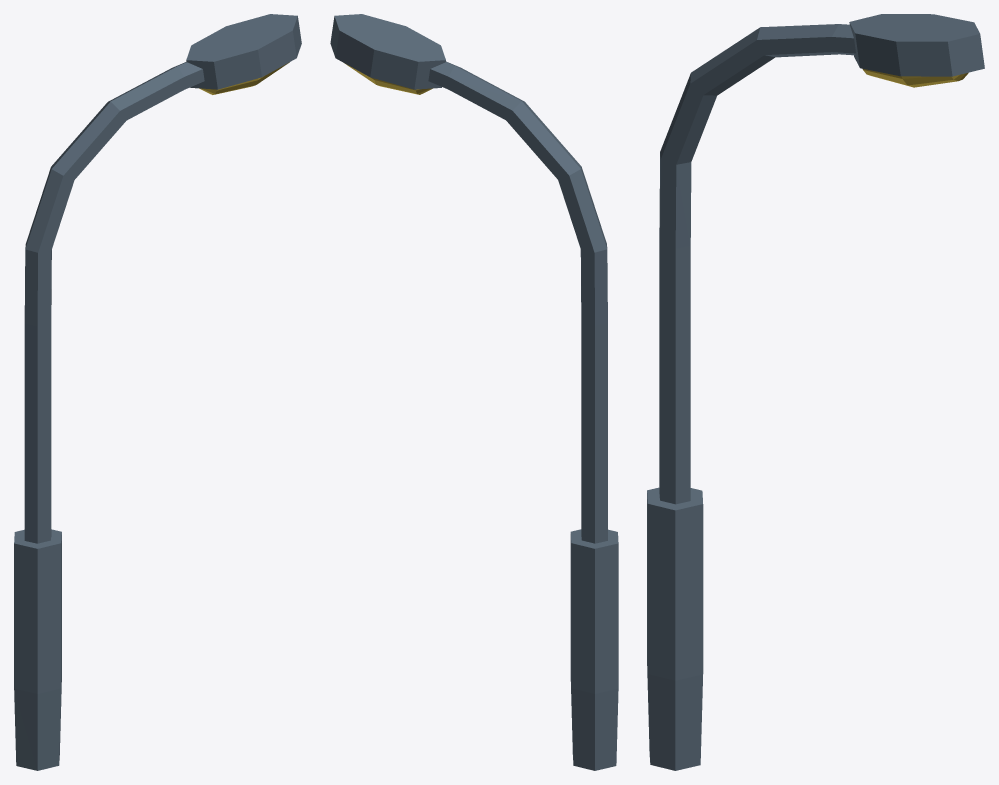
The model's file is StreetLight.FBX.
3 renders of one model, left to right at view 1: azimuth 30°, elevation 25°; view 2: azimuth 150°, elevation 25°; view 3: azimuth 330°, elevation 25°, orthographic. The views are drawn at different scales.
Parts seen in each view (by area): view 1: Cylinder004, Cylinder005; view 2: Cylinder004, Cylinder005; view 3: Cylinder004, Cylinder005, Sphere001.
Part boxes in pixels (x1=…): Cylinder004: x1=14, y1=62, x2=204, y2=770; Cylinder005: x1=186, y1=14, x2=301, y2=89; Cylinder004: x1=428, y1=61, x2=618, y2=770; Cylinder005: x1=330, y1=14, x2=445, y2=89; Cylinder004: x1=647, y1=24, x2=855, y2=770; Cylinder005: x1=849, y1=14, x2=984, y2=76; Sphere001: x1=862, y1=68, x2=968, y2=87.
Size of the model in its own units: 2.6 by 0.4985 by 5.87.
